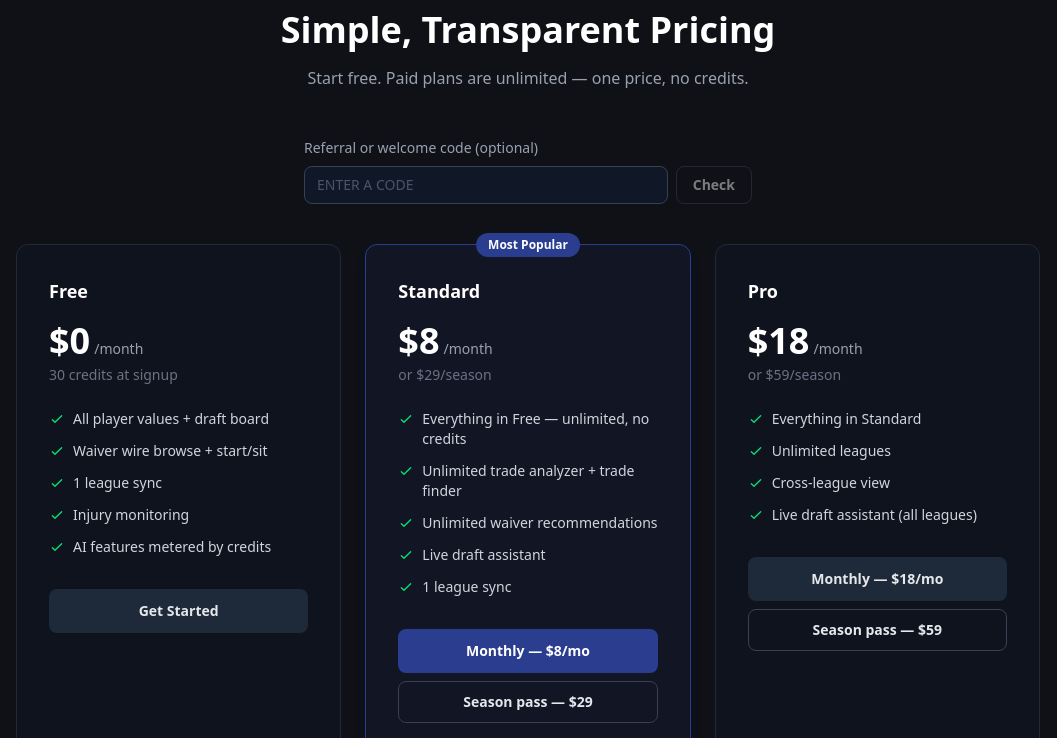
Test: PricingTable discount code › disables the season buttons while a code is entered, and says why
Type "ROOK-7K2M9X" into the field labelled "Referral or welcome code (optional)".
click(486, 185); type("ROOK-7K2M9X")  # box [304,166,668,204]
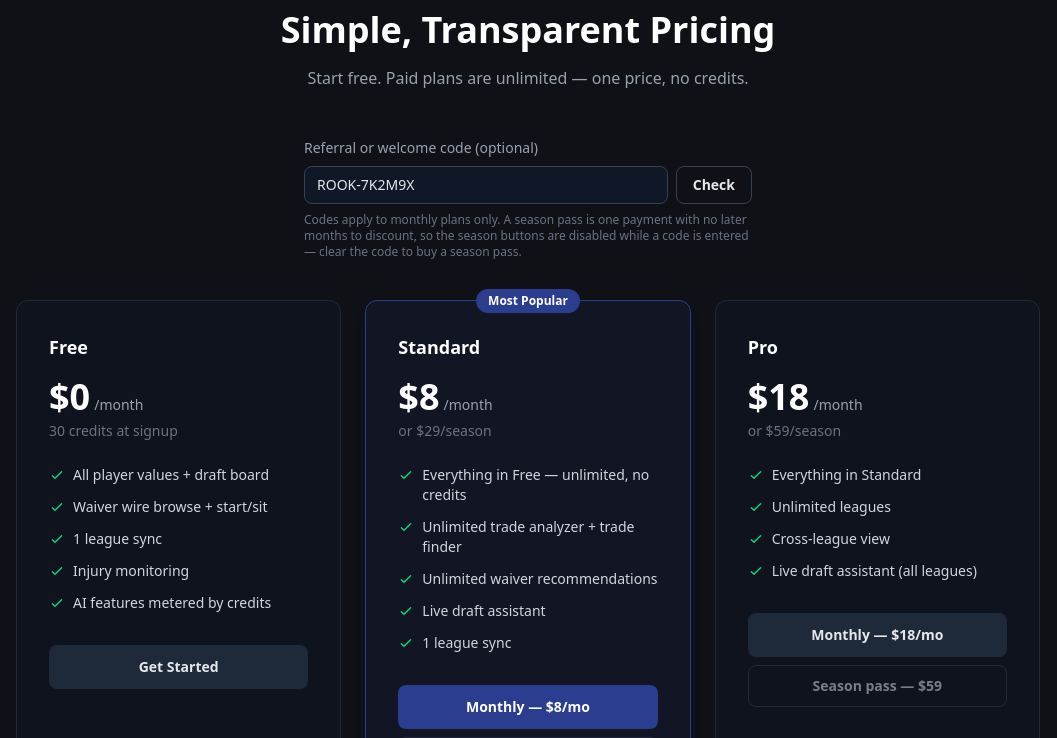
Expected: the button "Season pass — $59" is disabled, [748,665,1007,707]
Expected: the text "monthly plans only" is shown, [304,211,749,260]
